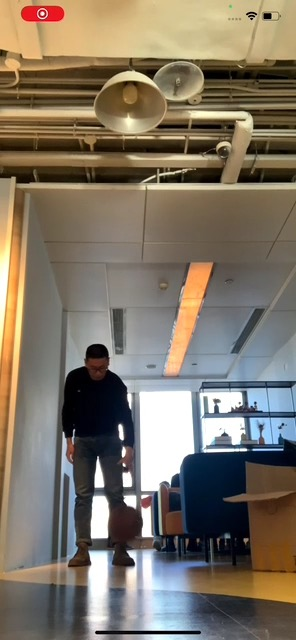ball: (106, 505, 143, 540)
